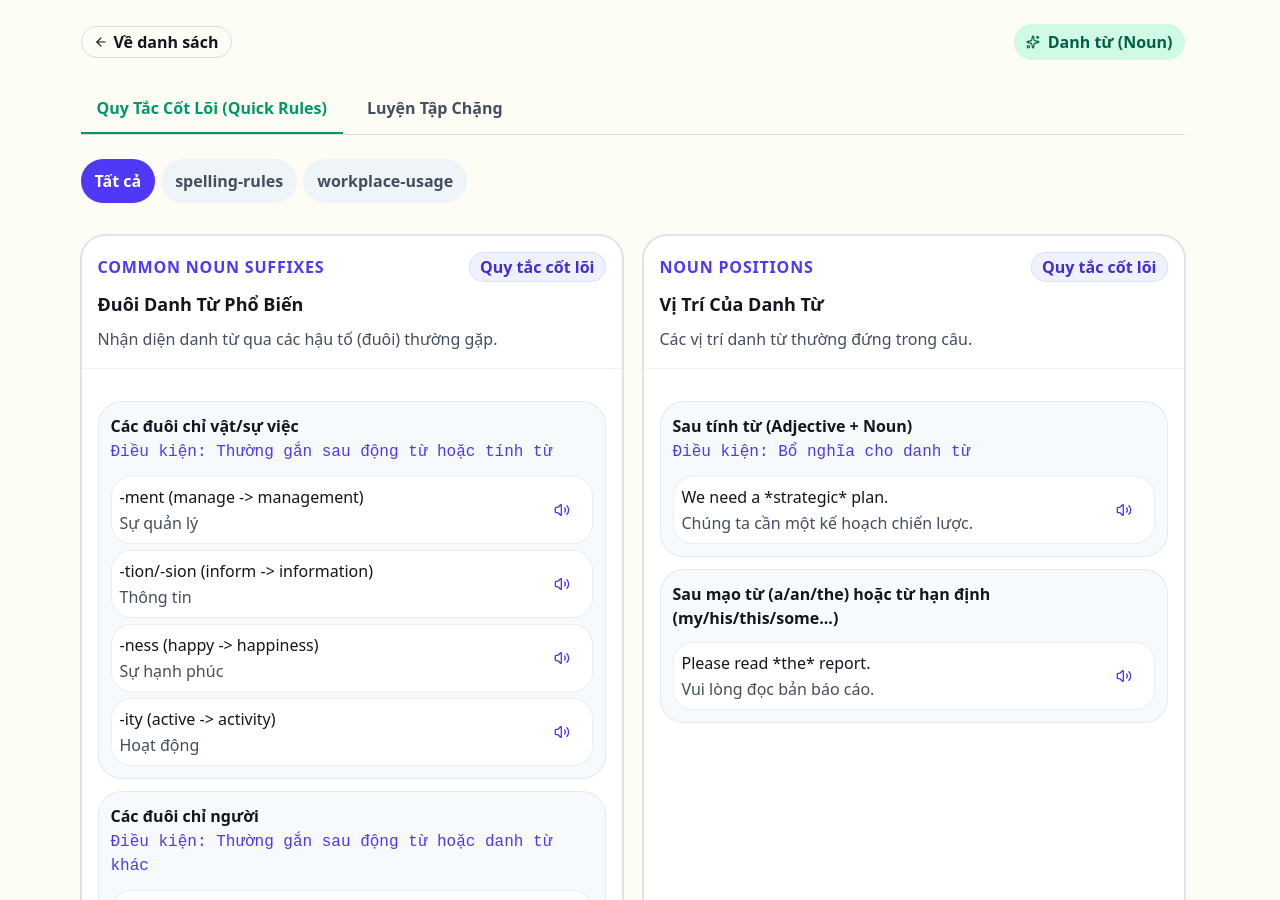
Test case: PartsOfSpeechLessonContainer › switches between 'rules' and 'practice' tabs
Expected: the text "Đuôi Danh Từ Phổ Biến" is shown, [98,292,303,316]
Click practice tab
Click the button "Luyện Tập Chặng": coordinates (435, 109) [351,84,519,134]
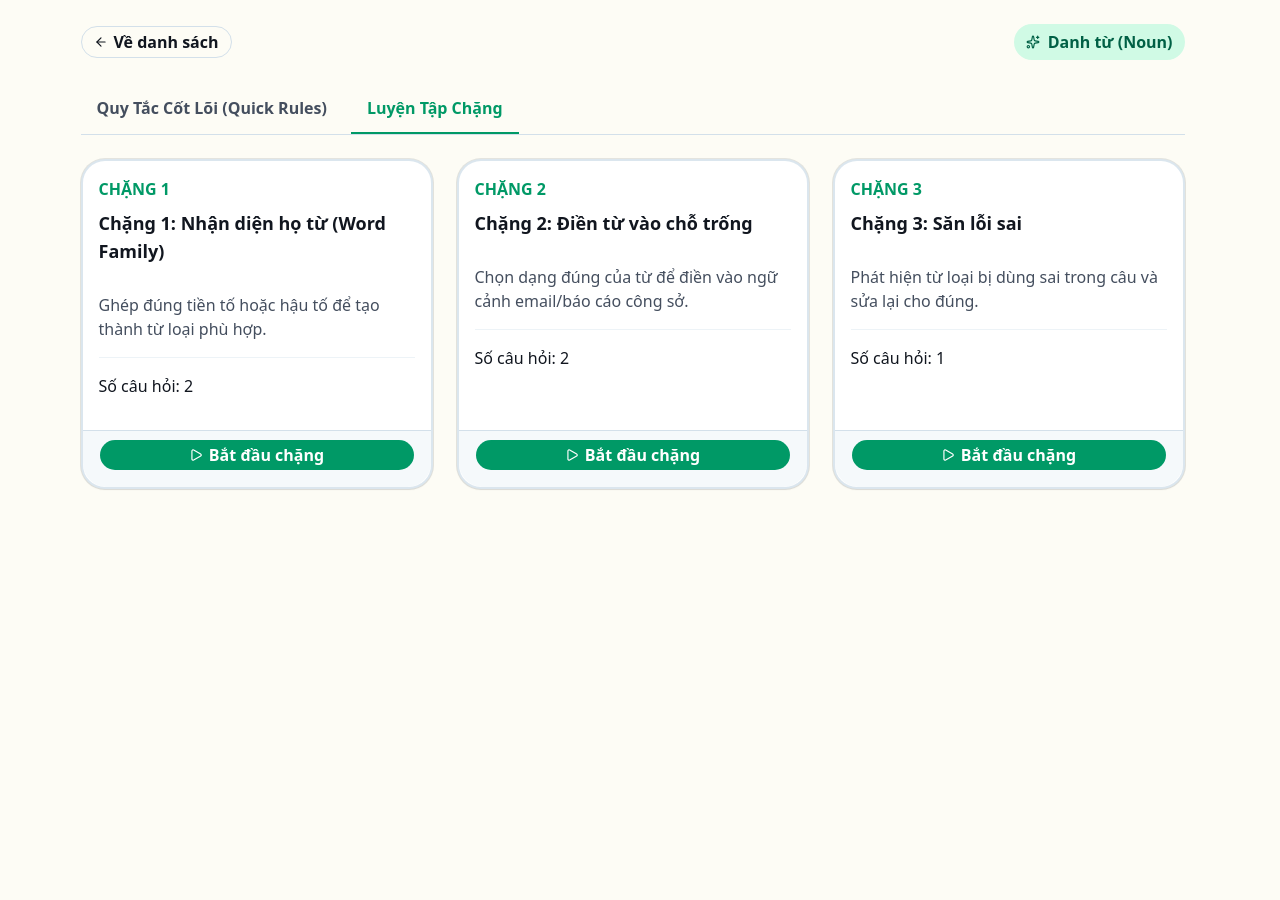
Now the text "Chặng 1: Nhận diện họ từ (Word Family)" is shown, box [98,209,414,265]
Click rules tab
Click the button "Quy Tắc Cốt Lõi (Quick Rules)": coordinates (212, 109) [80,84,343,134]
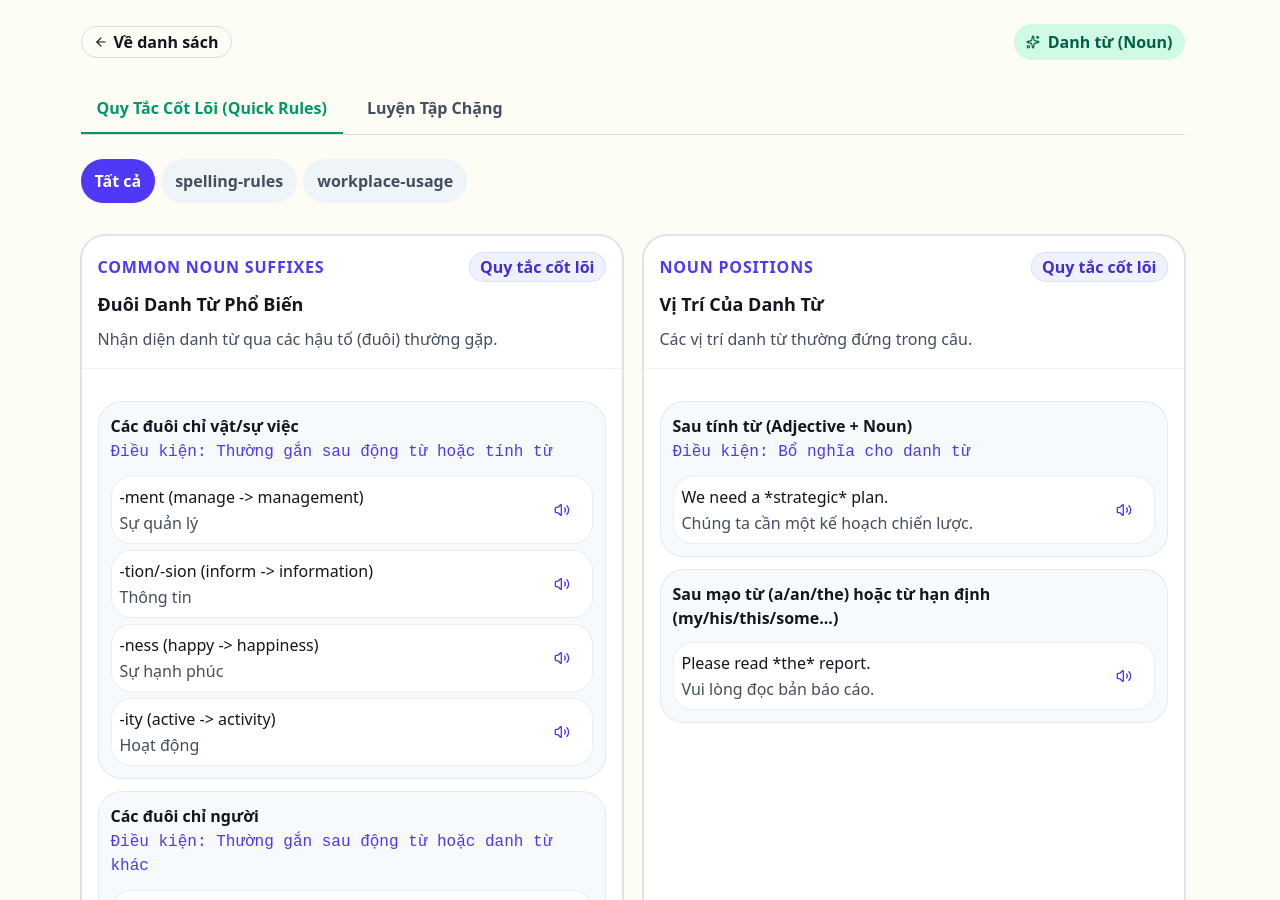
Now the text "Đuôi Danh Từ Phổ Biến" is shown, box [98,292,303,316]
